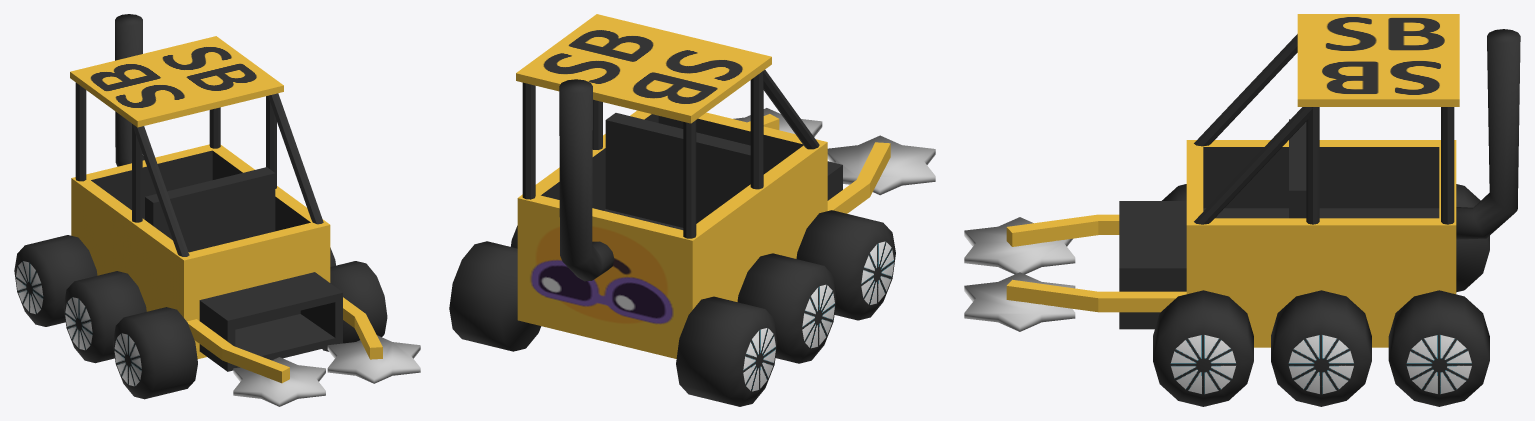
File: chainsaw_dozer.fbx
3 renders of one model, left to right at view 1: azimuth 30°, elevation 25°; view 2: azimuth 150°, elevation 25°; view 3: azimuth 270°, elevation 25°, orthographic. The views are drawn at different scales.
Parts seen in each view (by area): view 1: Cube, Wheels, Cube.001, Poles, Cylinder, Cube.002, chymney; view 2: Cube, Wheels, Cube.001, chymney, Poles, Cylinder, Cube.002; view 3: Cube, Wheels, Cube.001, chymney, Poles, Cylinder, Cube.002.
Boxes of the visible parts, x1,y1,x2,y2 form: Cube: (71,144,342,371); Wheels: (14,235,387,399); Cube.001: (70,36,283,127); Poles: (75,82,323,256); Cylinder: (233,335,420,406); Cube.002: (187,297,382,383); chymney: (115,14,144,166); Cube: (517,110,842,358); Wheels: (449,210,895,406); Cube.001: (516,14,771,123); chymney: (559,79,614,281); Poles: (522,70,819,238); Cylinder: (733,108,935,195); Cube.002: (747,114,890,213); Cube: (1119,119,1456,347); Wheels: (1153,184,1489,406); Cube.001: (1297,14,1459,106); chymney: (1456,29,1520,239); Poles: (1194,34,1454,224); Cylinder: (964,217,1075,331); Cube.002: (1006,214,1186,312).
Bounding box in the file's own units: 1000 × 1001 × 1651.
